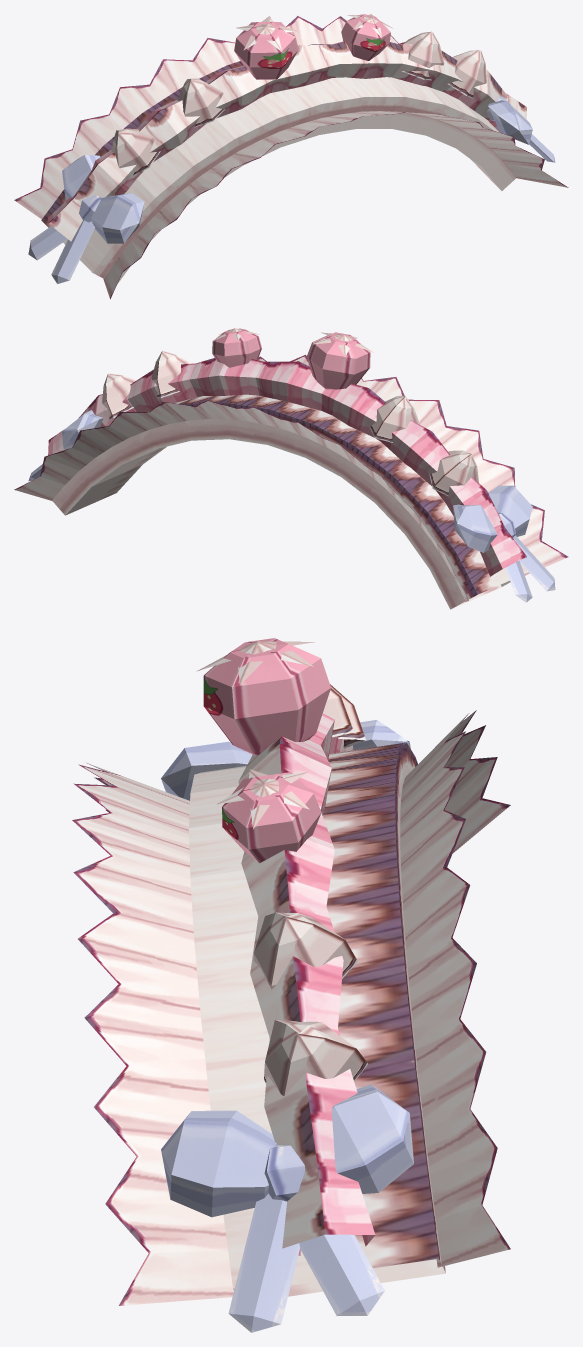
File: outfit_headdress.obj
3 renders of one model, top to bottom at view 1: azimuth 30°, elevation 25°; view 2: azimuth 150°, elevation 25°; view 3: azimuth 270°, elevation 25°, orthographic. The views are drawn at different scales.
Visible parts, largest first — view 1: headdress_band_head, headdress_frill_head, headdress_cream_piping_head, headdress_cream_dollop_head, headdress_bow_R_head, headdress_strawberry_head, headdress_bow_L_head, headdress_strawberry_leaf_head; view 2: headdress_band_head, headdress_cream_piping_head, headdress_frill_head, headdress_cream_dollop_head, headdress_bow_R_head, headdress_strawberry_head, headdress_bow_L_head, headdress_strawberry_leaf_head; view 3: headdress_frill_head, headdress_band_head, headdress_bow_L_head, headdress_cream_piping_head, headdress_strawberry_head, headdress_cream_dollop_head, headdress_bow_R_head, headdress_strawberry_leaf_head.
Part boxes in pixels (left/top/right/bottom): headdress_band_head: left=41, top=44, right=516, bottom=284; headdress_frill_head: left=14, top=16, right=568, bottom=299; headdress_cream_piping_head: left=48, top=41, right=526, bottom=241; headdress_cream_dollop_head: left=111, top=31, right=486, bottom=176; headdress_bow_R_head: left=28, top=155, right=144, bottom=283; headdress_strawberry_head: left=234, top=14, right=390, bottom=79; headdress_bow_L_head: left=487, top=96, right=555, bottom=162; headdress_strawberry_leaf_head: left=236, top=14, right=393, bottom=51; headdress_band_head: left=52, top=394, right=528, bottom=609; headdress_cream_piping_head: left=48, top=358, right=526, bottom=576; headdress_frill_head: left=14, top=354, right=568, bottom=601; headdress_cream_dollop_head: left=102, top=350, right=478, bottom=495; headdress_bow_R_head: left=453, top=485, right=555, bottom=602; headdress_strawberry_head: left=212, top=328, right=370, bottom=389; headdress_bow_L_head: left=28, top=410, right=103, bottom=481; headdress_strawberry_leaf_head: left=213, top=328, right=373, bottom=356; headdress_frill_head: left=72, top=710, right=510, bottom=1305; headdress_band_head: left=189, top=742, right=445, bottom=1296; headdress_bow_L_head: left=161, top=1084, right=413, bottom=1332; headdress_cream_piping_head: left=238, top=713, right=375, bottom=1255; headdress_strawberry_head: left=203, top=638, right=330, bottom=863; headdress_cream_dollop_head: left=253, top=684, right=368, bottom=1096; headdress_bow_R_head: left=161, top=720, right=410, bottom=800; headdress_strawberry_leaf_head: left=196, top=641, right=314, bottom=828.
Size of the model in its own units: 0.3985 by 0.1668 by 0.1522.
1 material, 1 textured.
